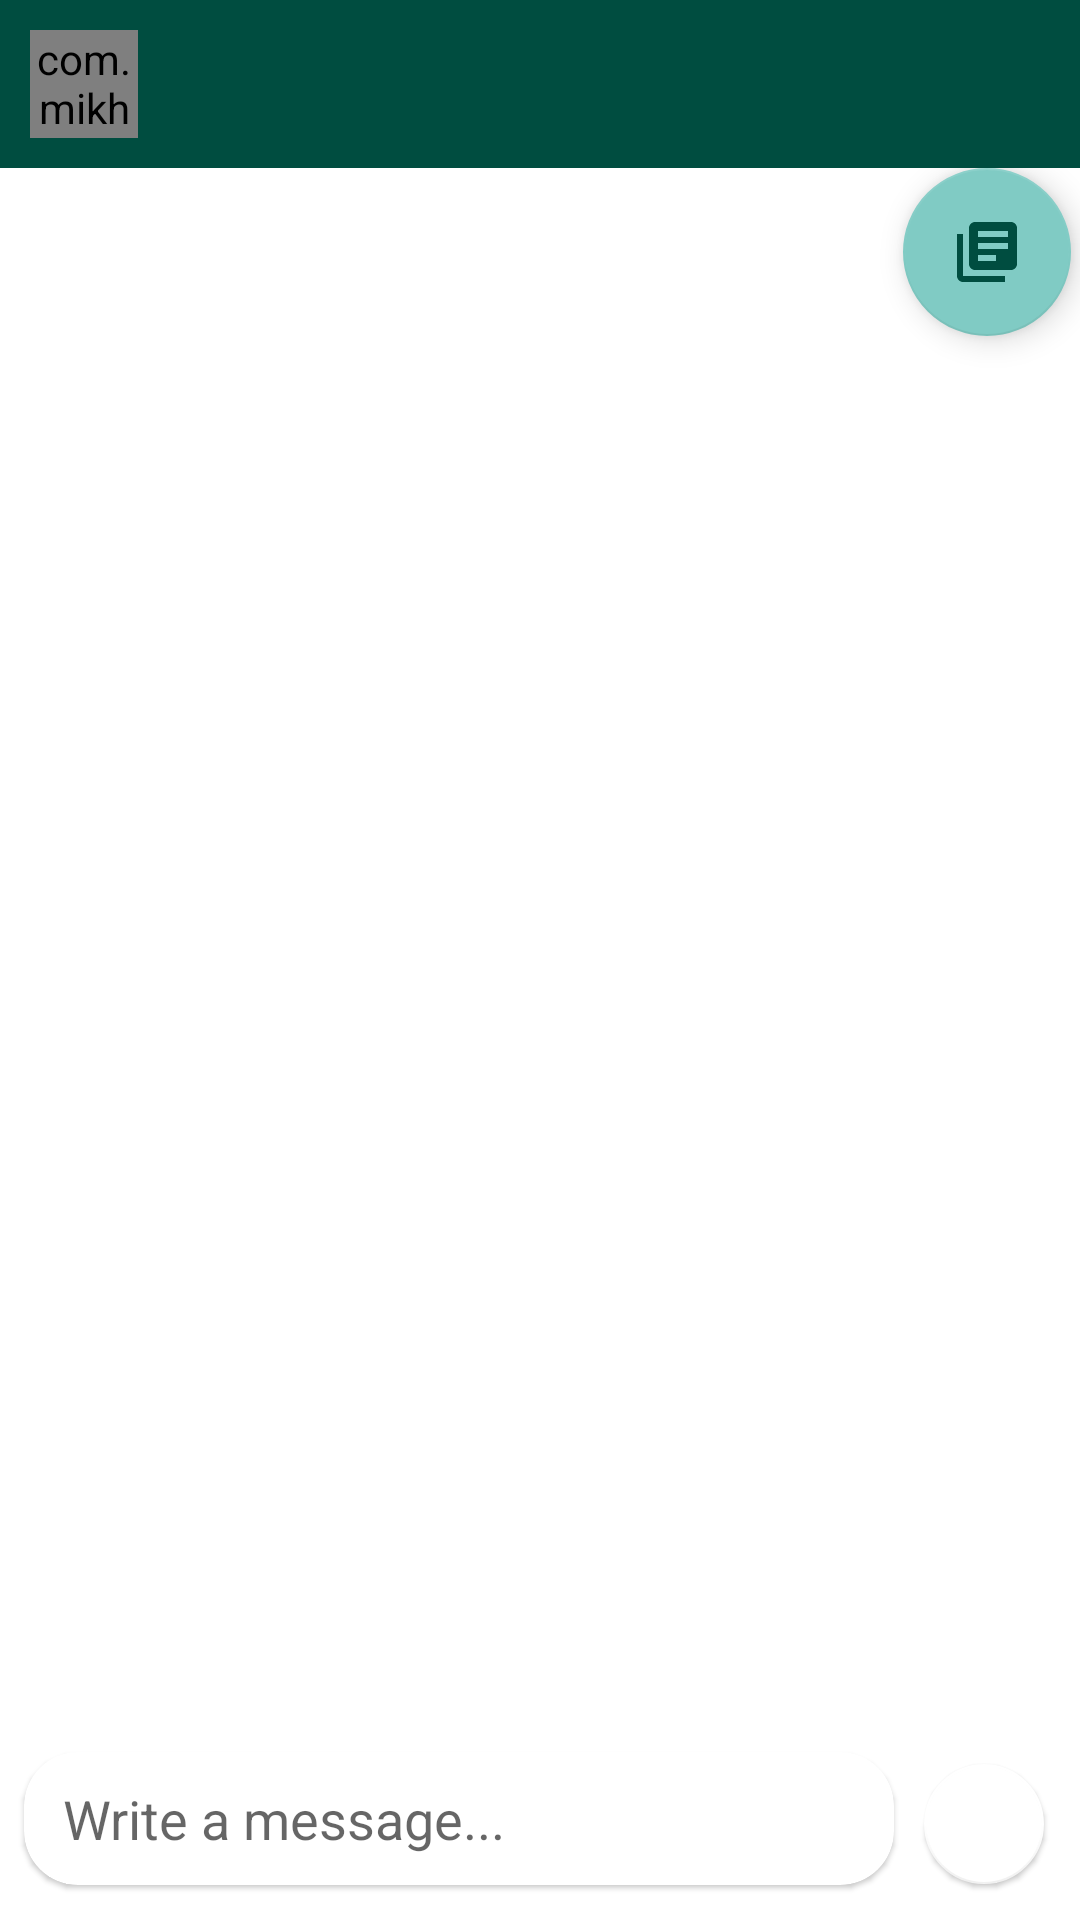

Icon click points for this 1080x1920 phone screenshot, format [x,y]:
library books: [987,252]
